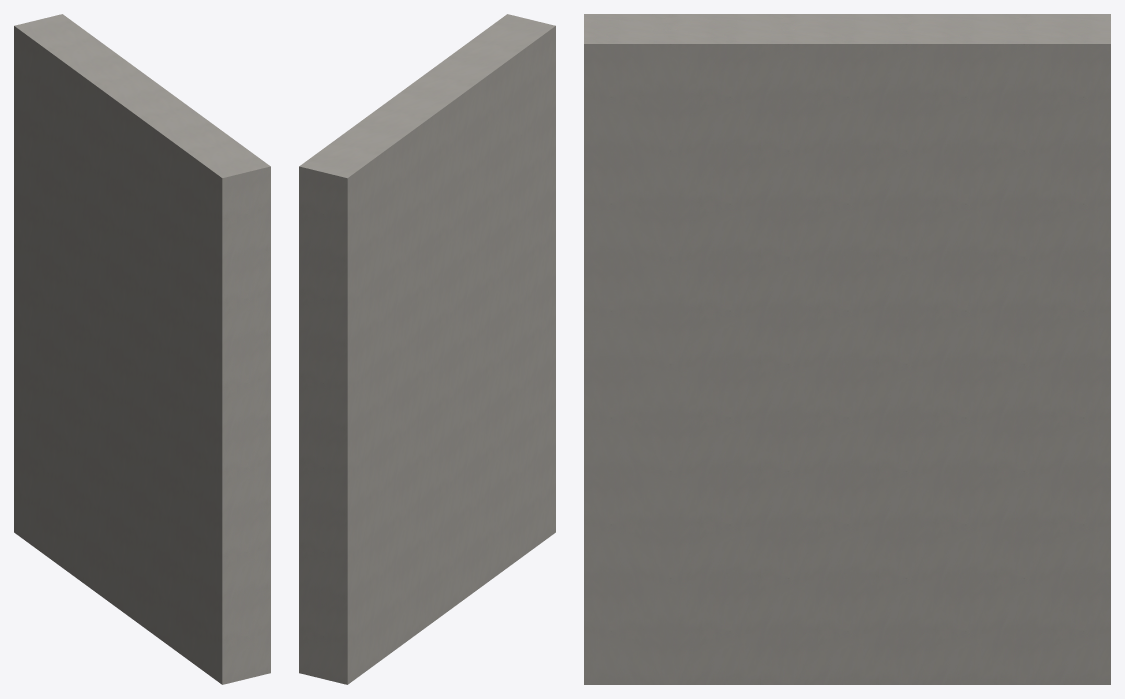
The model's file is fstWallY.obj.
The picture shows the model from 3 angles, left to right: view 1: azimuth 30°, elevation 25°; view 2: azimuth 150°, elevation 25°; view 3: azimuth 270°, elevation 25°; orthographic projection. The views are drawn at different scales.
Visible parts, largest first — view 1: Box011; view 2: Box011; view 3: Box011.
Part boxes in pixels (x1=…): Box011: x1=14, y1=14, x2=270, y2=684; Box011: x1=299, y1=14, x2=555, y2=684; Box011: x1=584, y1=14, x2=1110, y2=684.
Bounding box in the file's own units: 11.82 × 118 × 87.99.
